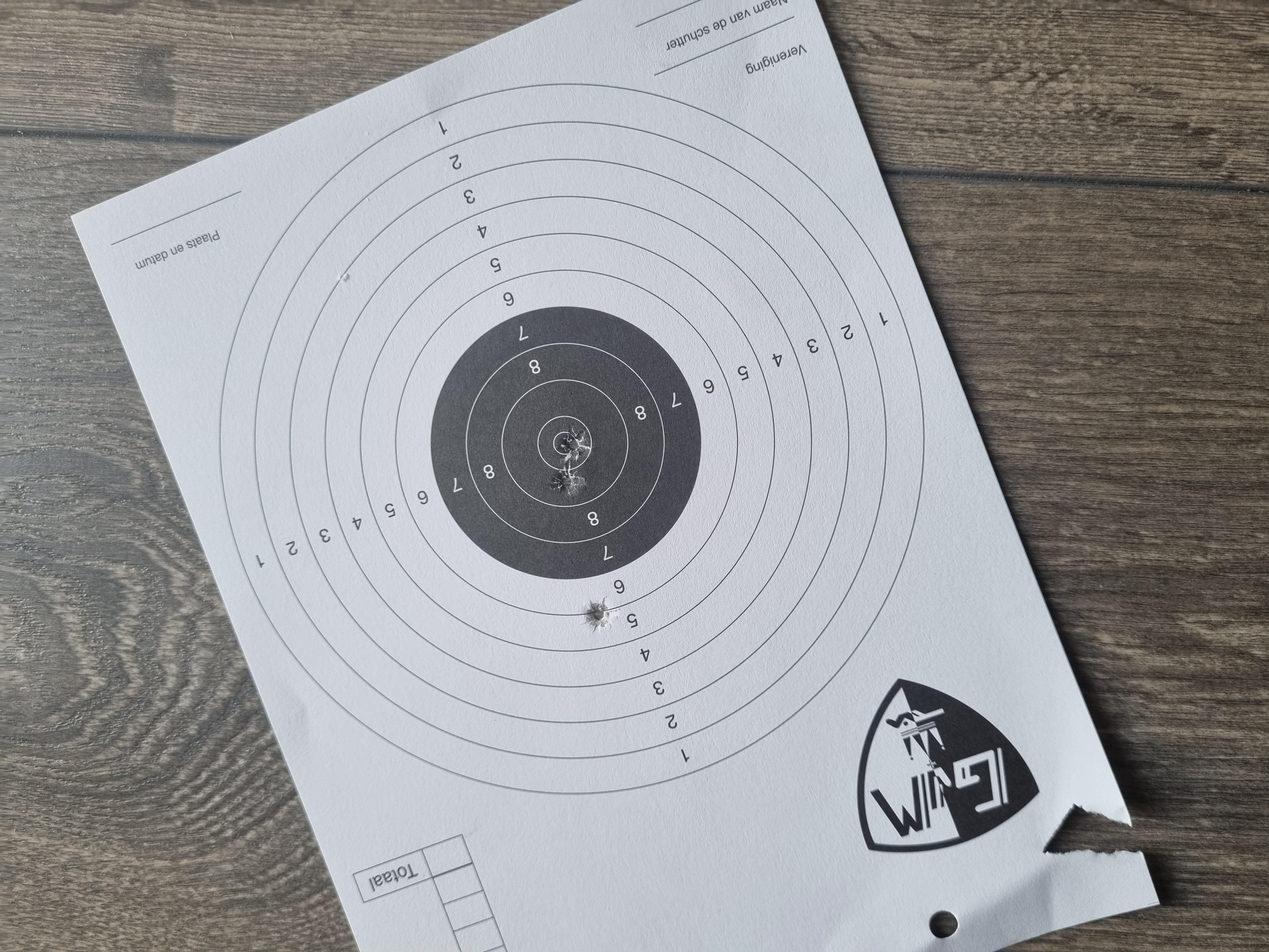hole: (649, 418, 703, 445), (426, 434, 473, 463), (606, 413, 647, 439)
